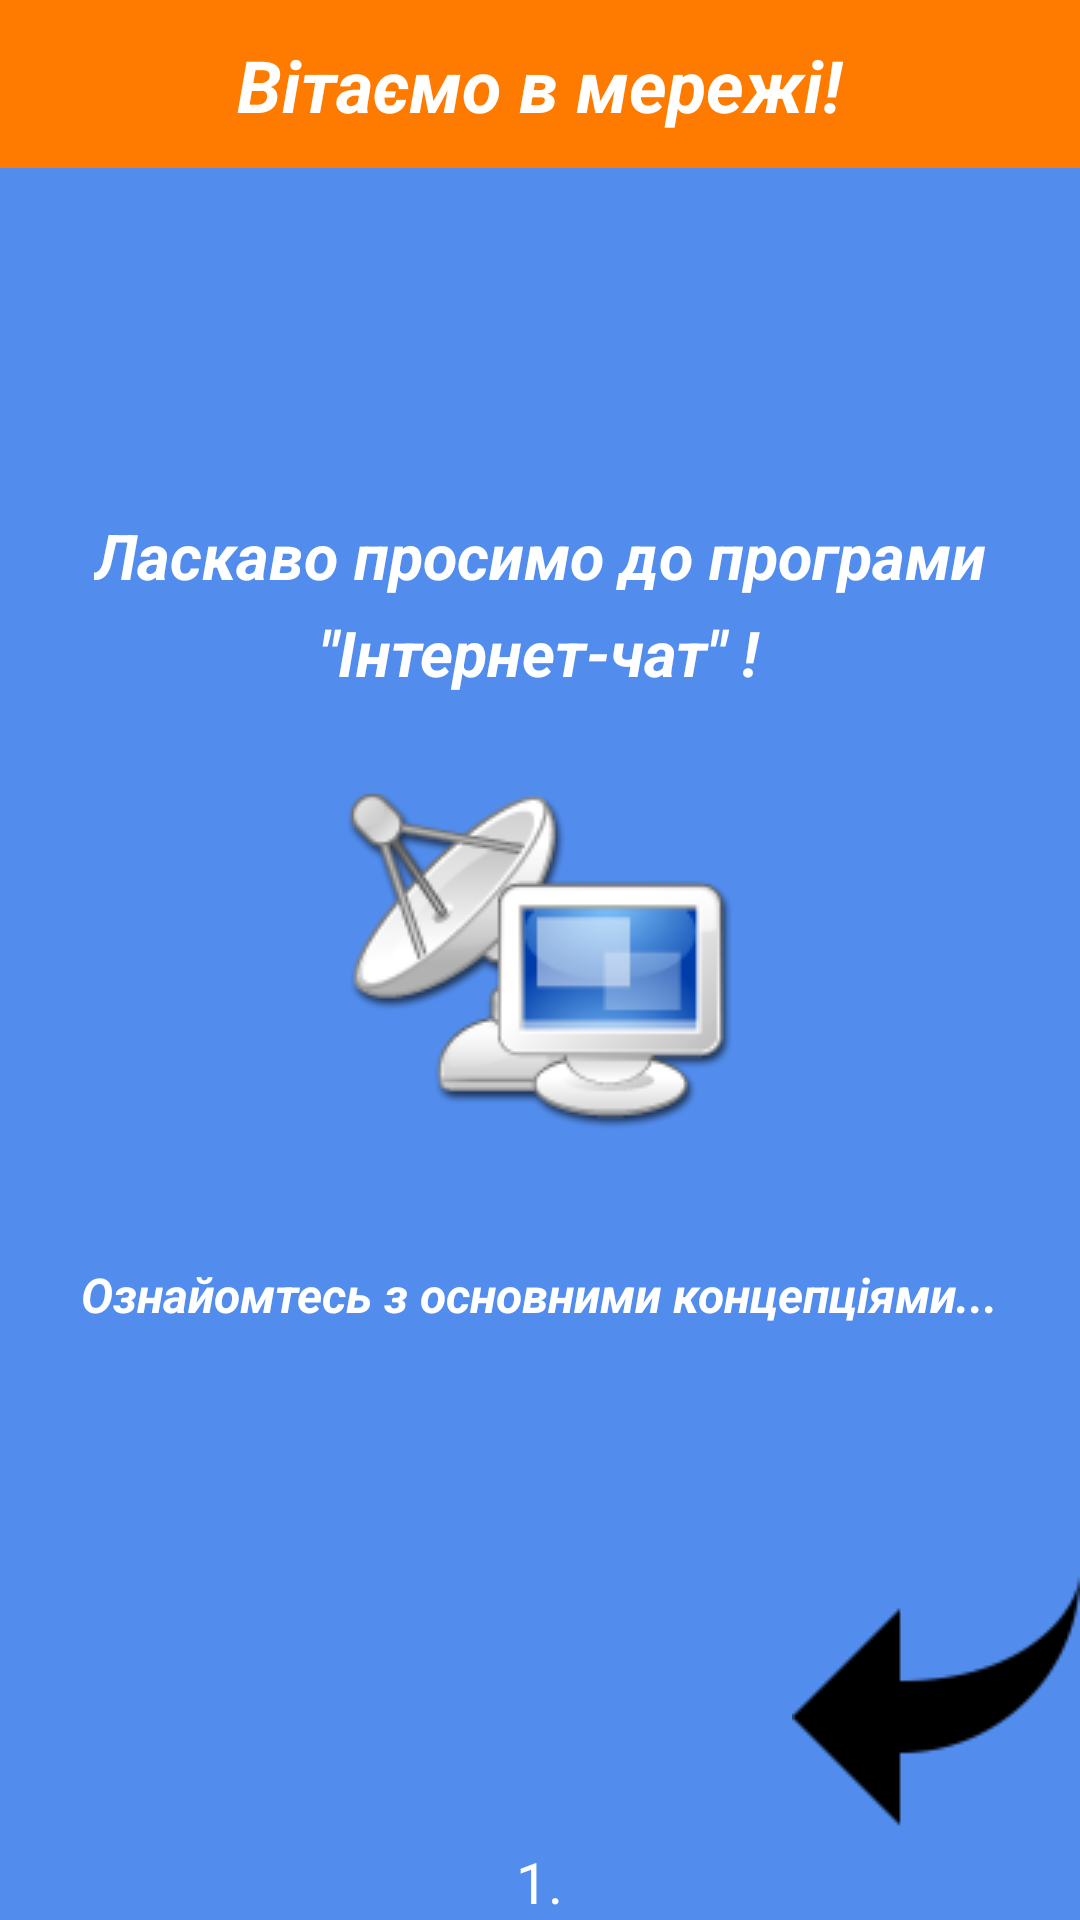

Named icons in this screenshot (1080 × 1920) and their centers, (x=x, y=y):
strel: (x=936, y=1702)
